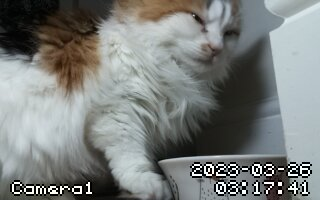clara: (4, 1, 247, 200)
